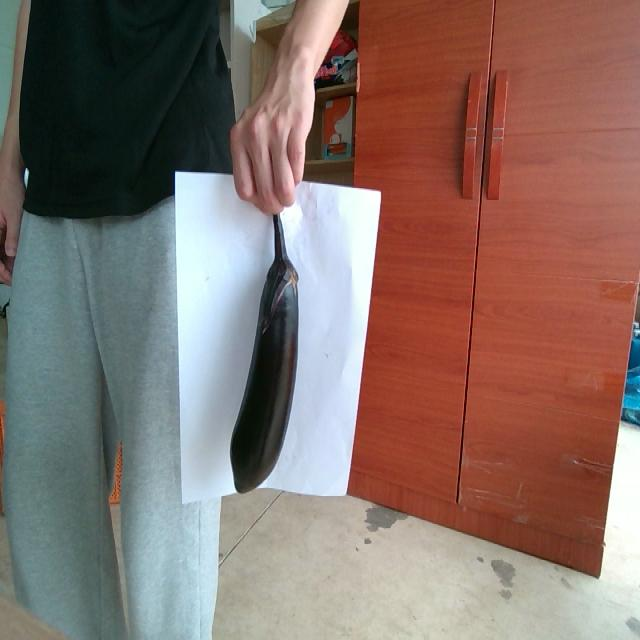Egg plant: (231, 215, 298, 492)
